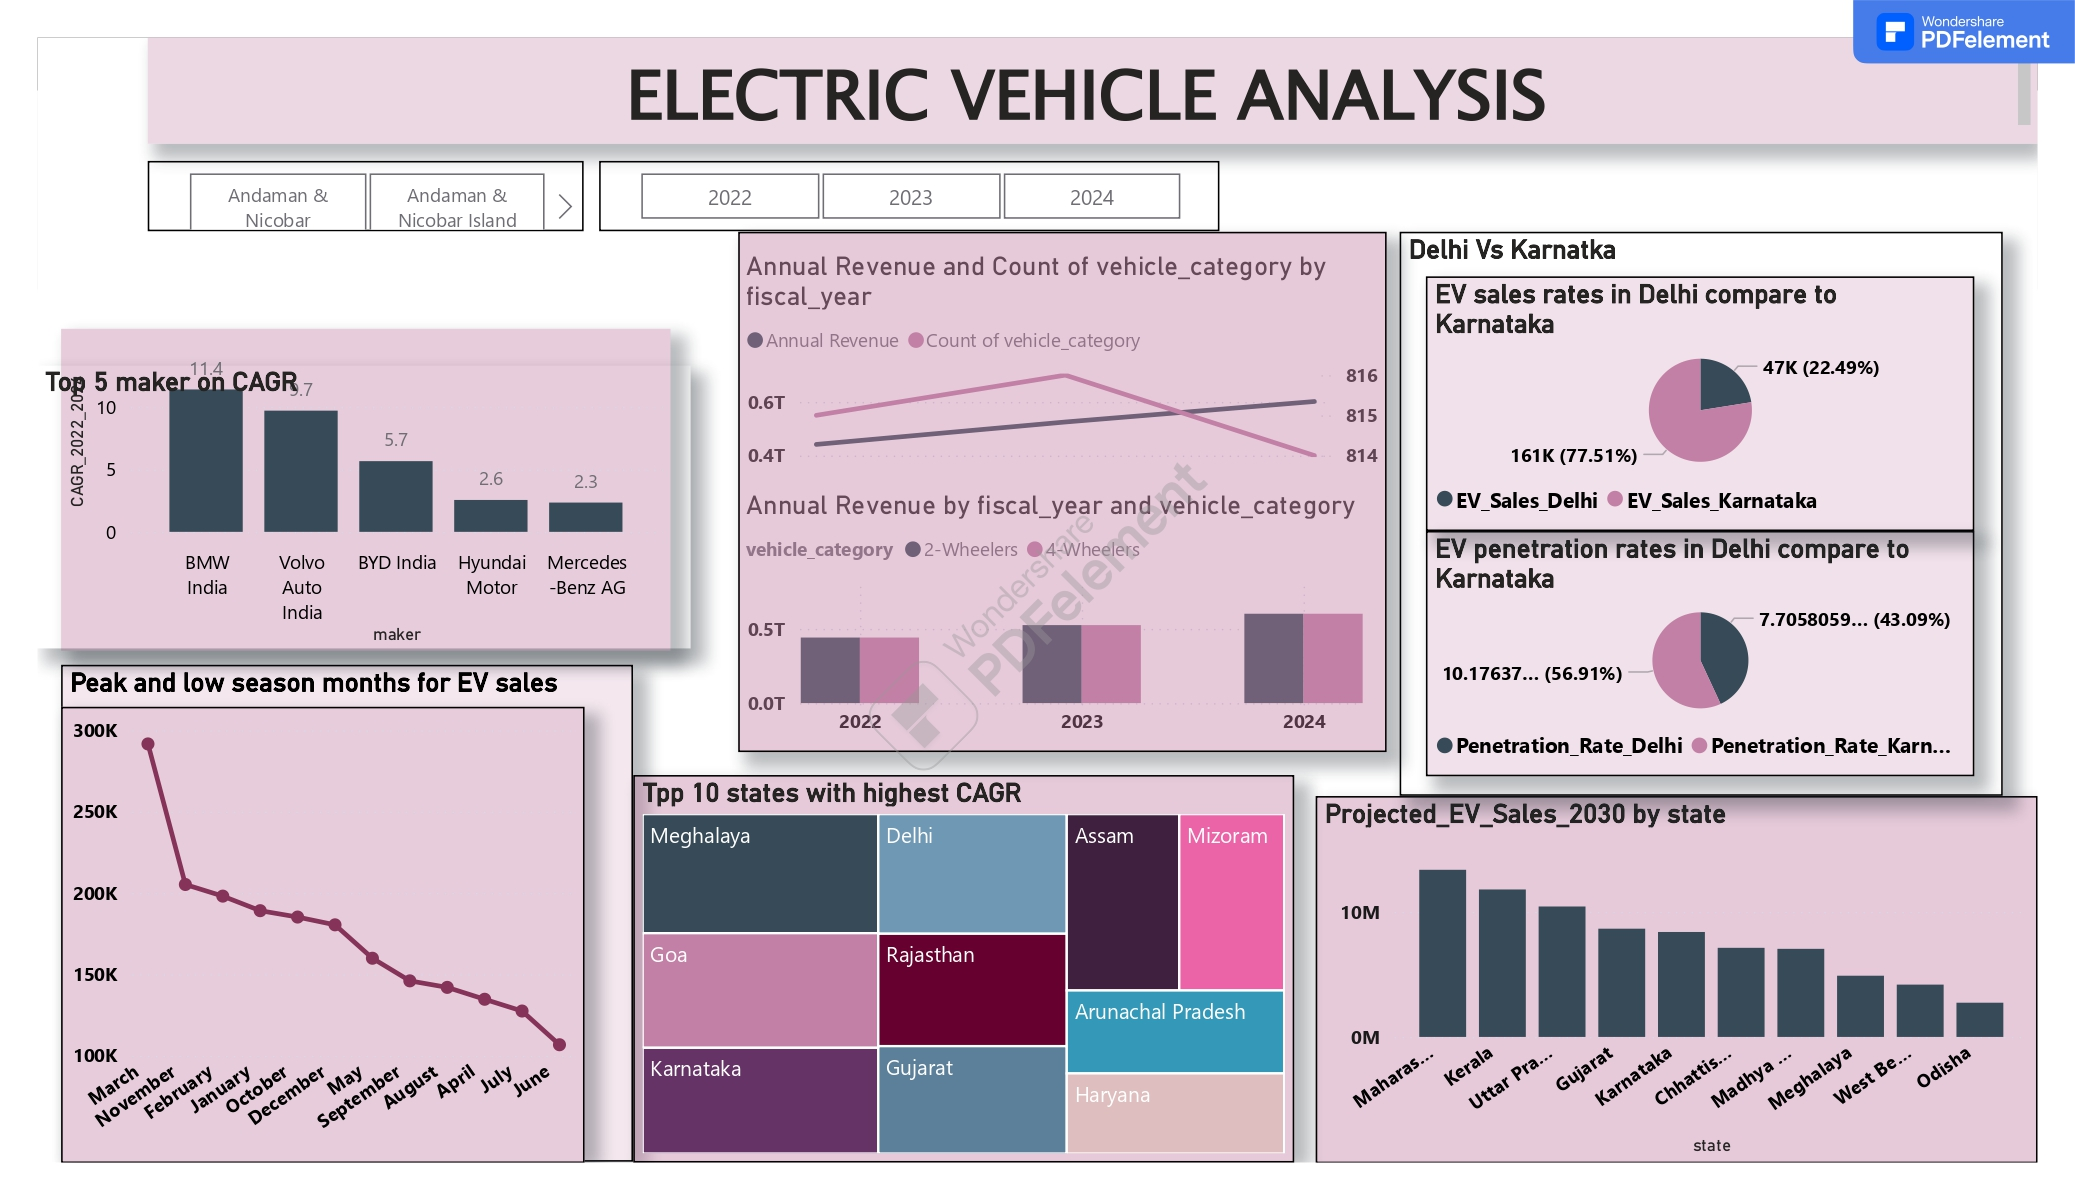

What the dashboard file says about the page in this screenshot:
{"tool":"powerbi","page":{"name":"ELECTRIC VEHICLE ANALYSIS2","canvas":[1280,720],"ordinal":1},"visuals":[{"type":"columnChart","title":"Top 5 makers AS CAGR","fields":{"Category":["merge_sales_by_makers.maker"],"Y":["merge_sales_by_makers.CAGR_2022_2024"]},"box":[15.8,185.8,390.2,205.9],"z":0},{"type":"textbox","box":[70.6,0,1209.6,67.7],"z":1000},{"type":"textbox","title":"Peak and low season months for EV sales","box":[15.8,401.8,365.8,318.2],"z":2000},{"type":"treemap","title":" Tpp 10 states with highest CAGR ","fields":{"Group":["merge_vechicle_sales_by state.state"],"Values":["Merge1.CAGR_2022_2024_state"]},"box":[382.1,471.9,422.6,248.3],"z":3000},{"type":"lineChart","fields":{"Y":["merge_vechicle_sales_by state.Total_EV_Sales_Monthly"],"Category":["merge_vechicle_sales_by state.Month_state"]},"box":[15.8,427.8,334.5,292.3],"z":4000},{"type":"columnChart","fields":{"Category":["merge_vechicle_sales_by state.state"],"Y":["Merge1.Projected_EV_Sales_2030"]},"box":[818.1,485.5,461.9,235.2],"z":5000},{"type":"pieChart","title":" EV  penetration rates in Delhi compare to Karnataka ","fields":{"Y":["merge_vechicle_sales_by state.Penetration_Rate_Delhi","merge_vechicle_sales_by state.Penetration_Rate_Karnataka"]},"box":[888.5,315.4,351.4,157],"z":6000},{"type":"pieChart","title":" EV sales  rates in Delhi compare to Karnataka ","fields":{"Y":["merge_vechicle_sales_by state.EV_Sales_Delhi","merge_vechicle_sales_by state.EV_Sales_Karnataka"]},"box":[888.5,152.6,351.4,162.7],"z":7000},{"type":"textbox","title":"Delhi Vs Karnatka","box":[871.8,124.3,386.4,361.2],"z":8000},{"type":"textbox","title":"Top 5 maker on CAGR","box":[0,210,418.3,181.4],"z":9000},{"type":"clusteredColumnChart","fields":{"Category":["merge_vechicle_sales_by state.fiscal_year"],"Y":["merge_vechicle_sales_by state.Annual Revenue"],"Series":["merge_vechicle_sales_by state.vehicle_category"]},"box":[447.8,289.4,404.6,167],"z":10000},{"type":"lineChart","fields":{"Category":["merge_vechicle_sales_by state.fiscal_year"],"Y":["merge_vechicle_sales_by state.Annual Revenue"],"Y2":["merge_vechicle_sales_by state.vehicle_category"]},"box":[447.8,136.8,414.7,145.4],"z":11000},{"type":"textbox","box":[448.5,124.3,414.9,332.6],"z":12000},{"type":"slicer","fields":{"Values":["merge_vechicle_sales_by state.state"]},"box":[70.6,79.2,279.4,44.6],"z":13000},{"type":"slicer","title":"YEAR","fields":{"Values":["merge_sales_by_makers.fiscal_year"]},"box":[360,79.2,397.4,44.6],"z":14000}]}

Visuals, with their boxes on the page's 1280x720 design canvas (x1, y1, x2, y2). These are canvas units, not pixel positions in the 2075x1200 screenshot, which may show the page scaled, cropped or inside an application window:
"Top 5 makers AS CAGR" columnChart: box=[16, 186, 406, 392]
textbox: box=[71, 0, 1280, 68]
"Peak and low season months for EV sales" textbox: box=[16, 402, 382, 720]
" Tpp 10 states with highest CAGR " treemap: box=[382, 472, 805, 720]
lineChart - merge_vechicle_sales_by state.Total_EV_Sales_Monthly x merge_vechicle_sales_by state.Month_state: box=[16, 428, 350, 720]
columnChart - merge_vechicle_sales_by state.state x Merge1.Projected_EV_Sales_2030: box=[818, 486, 1280, 721]
" EV  penetration rates in Delhi compare to Karnataka " pieChart: box=[888, 315, 1240, 472]
" EV sales  rates in Delhi compare to Karnataka " pieChart: box=[888, 153, 1240, 315]
"Delhi Vs Karnatka" textbox: box=[872, 124, 1258, 486]
"Top 5 maker on CAGR" textbox: box=[0, 210, 418, 391]
clusteredColumnChart - merge_vechicle_sales_by state.fiscal_year x merge_vechicle_sales_by state.Annual Revenue: box=[448, 289, 852, 456]
lineChart - merge_vechicle_sales_by state.fiscal_year x merge_vechicle_sales_by state.Annual Revenue: box=[448, 137, 862, 282]
textbox: box=[448, 124, 863, 457]
slicer - merge_vechicle_sales_by state.state: box=[71, 79, 350, 124]
"YEAR" slicer: box=[360, 79, 757, 124]
